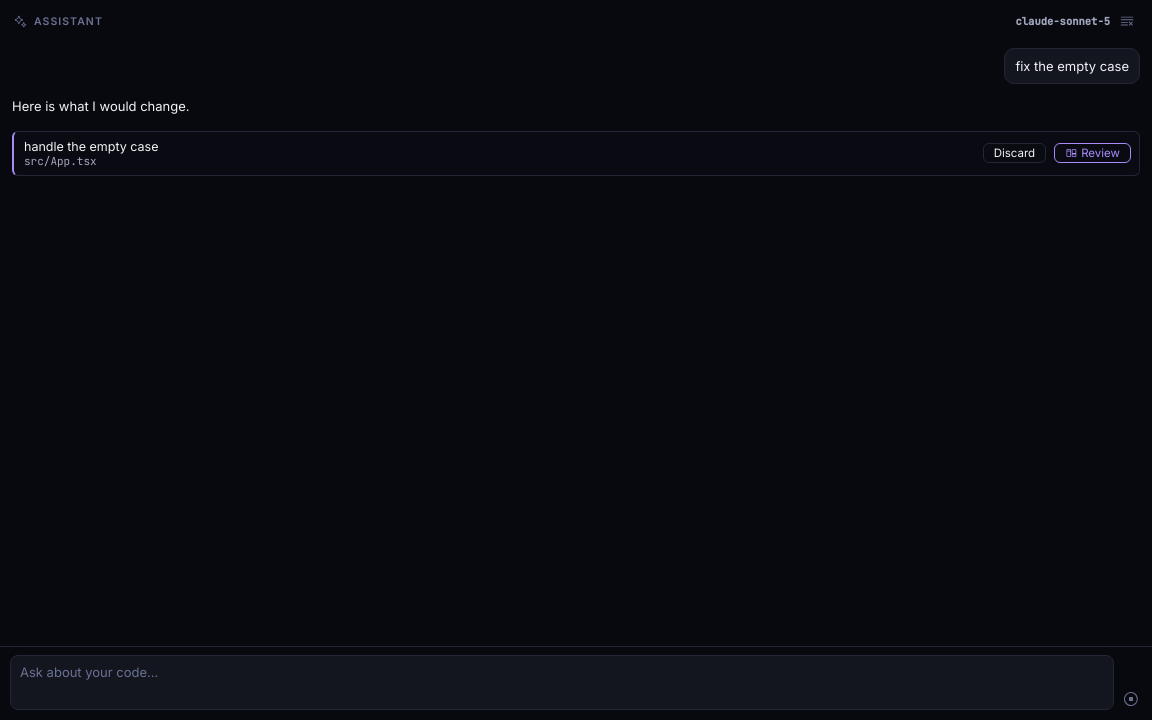
Scenario: a change the assistant has offered › goes away when it is discarded, without opening anything
This screenshot has width=1152, height=720.
Click the button with aria-label "Discard the change to src/App.tsx" at {"x": 1014, "y": 153}, box [983, 143, 1046, 163]
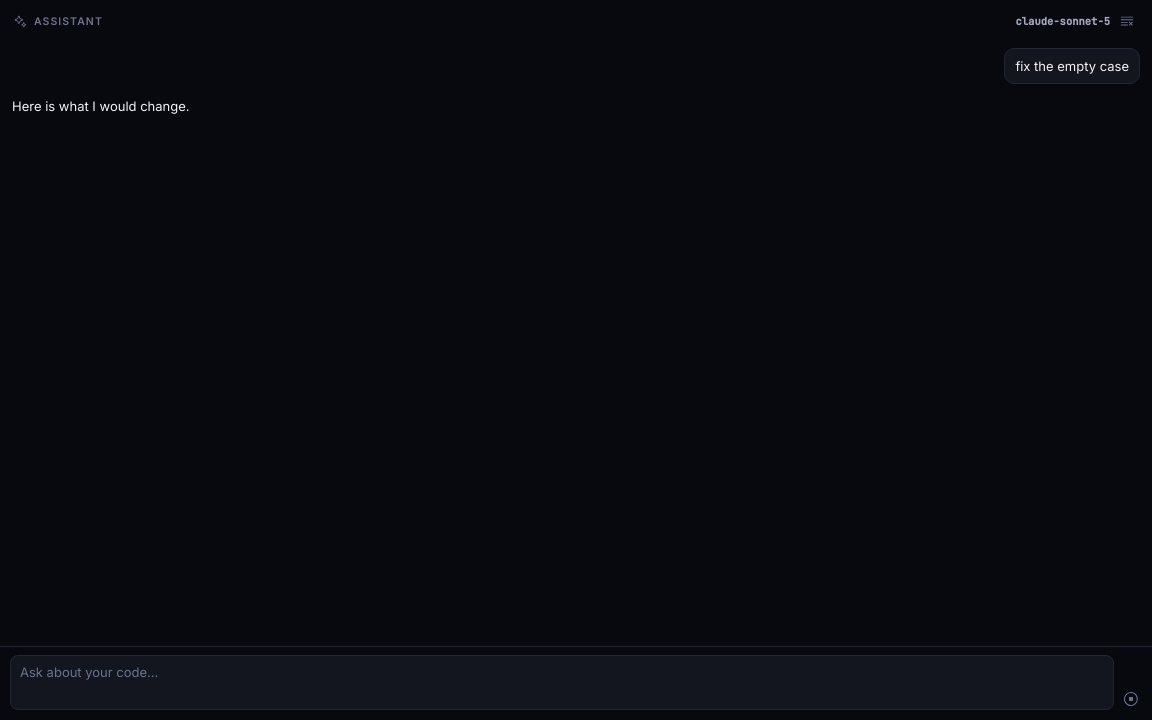
expect the text "handle the empty case" is gone: met
